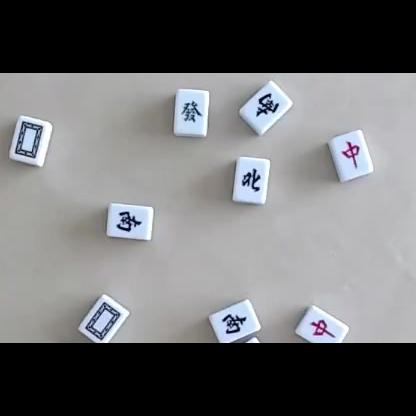2z: (256, 92, 279, 117), (116, 211, 143, 232), (222, 314, 248, 335)
4z: (241, 168, 261, 192)
5z: (85, 302, 120, 341), (15, 120, 43, 159)
6z: (181, 99, 201, 124)
7z: (309, 318, 336, 339), (342, 140, 361, 169)
